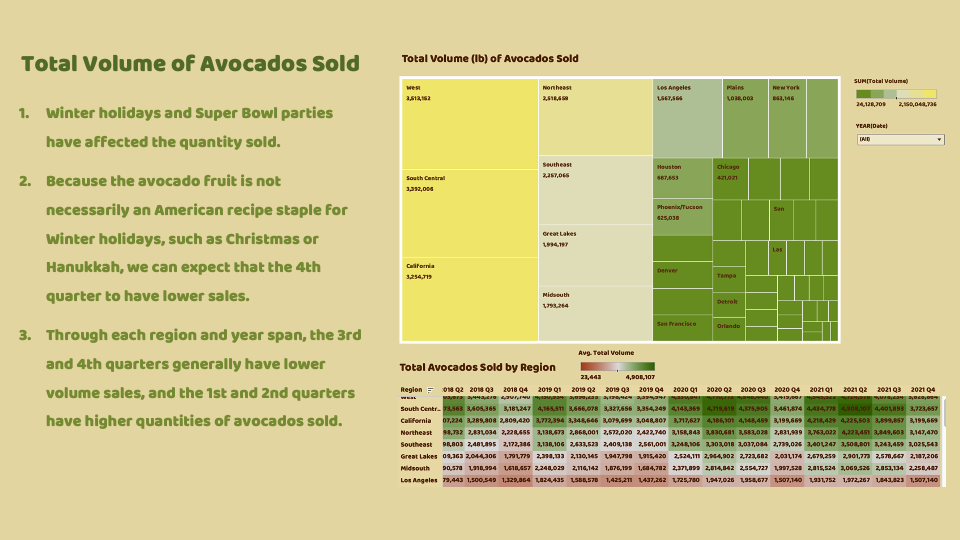

The page's visual inventory and layout, read from the dashboard file:
{"tool":"tableau","page":{"name":"Dashboard - Regional Sales and Volume","canvas":[1016,964],"ordinal":1},"visuals":[{"type":"worksheet","param":"Image/Cado_Creations_logo.png","box":[16,56,587,176]}]}

Visuals, with their boxes on the page's 1016x964 design canvas (x1, y1, x2, y2). These are canvas units, not pixel positions in the 960x540 screenshot, which may show the page scaled, cropped or inside an application window:
worksheet: box(16, 56, 603, 232)
